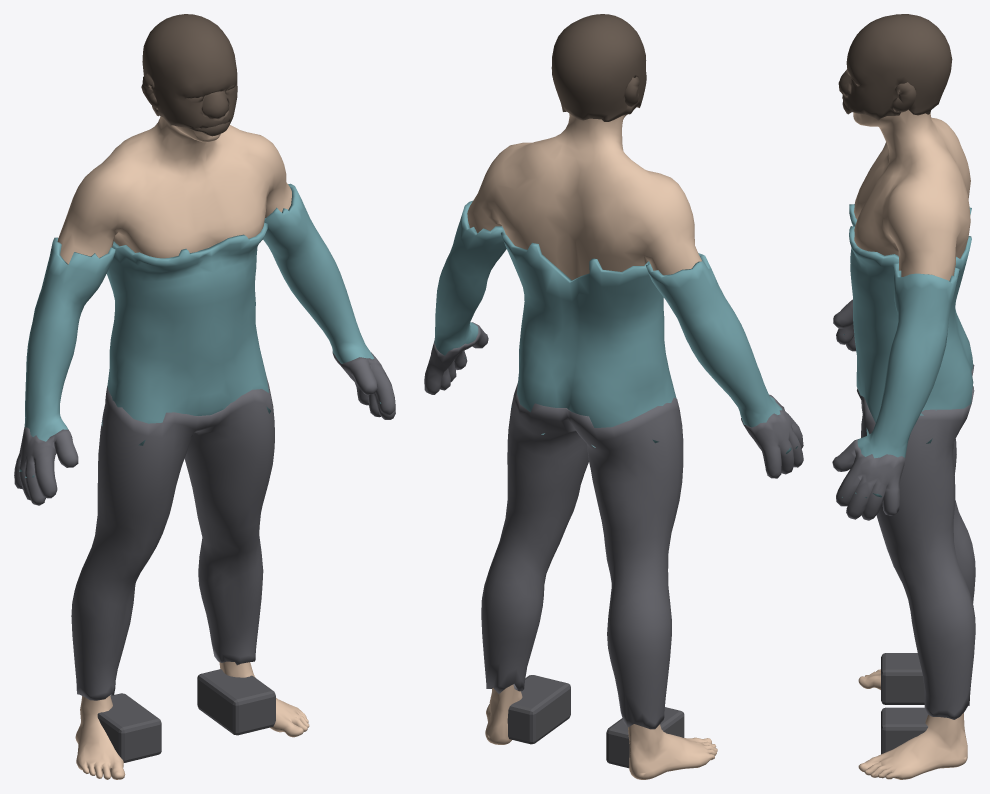
Rendered from metahuman_player.glb.
3 views of the same model, side by side, from view 1: azimuth 30°, elevation 25°; view 2: azimuth 150°, elevation 25°; view 3: azimuth 270°, elevation 25° (orthographic).
Visible parts, largest first — view 1: PeriHuman; view 2: PeriHuman; view 3: PeriHuman.
Part boxes in pixels (x1,y1,x2,y2): PeriHuman: [14, 14, 395, 779]; PeriHuman: [424, 14, 803, 779]; PeriHuman: [832, 14, 975, 779].
Size of the model in its own units: 0.947 by 1.8 by 0.328.
